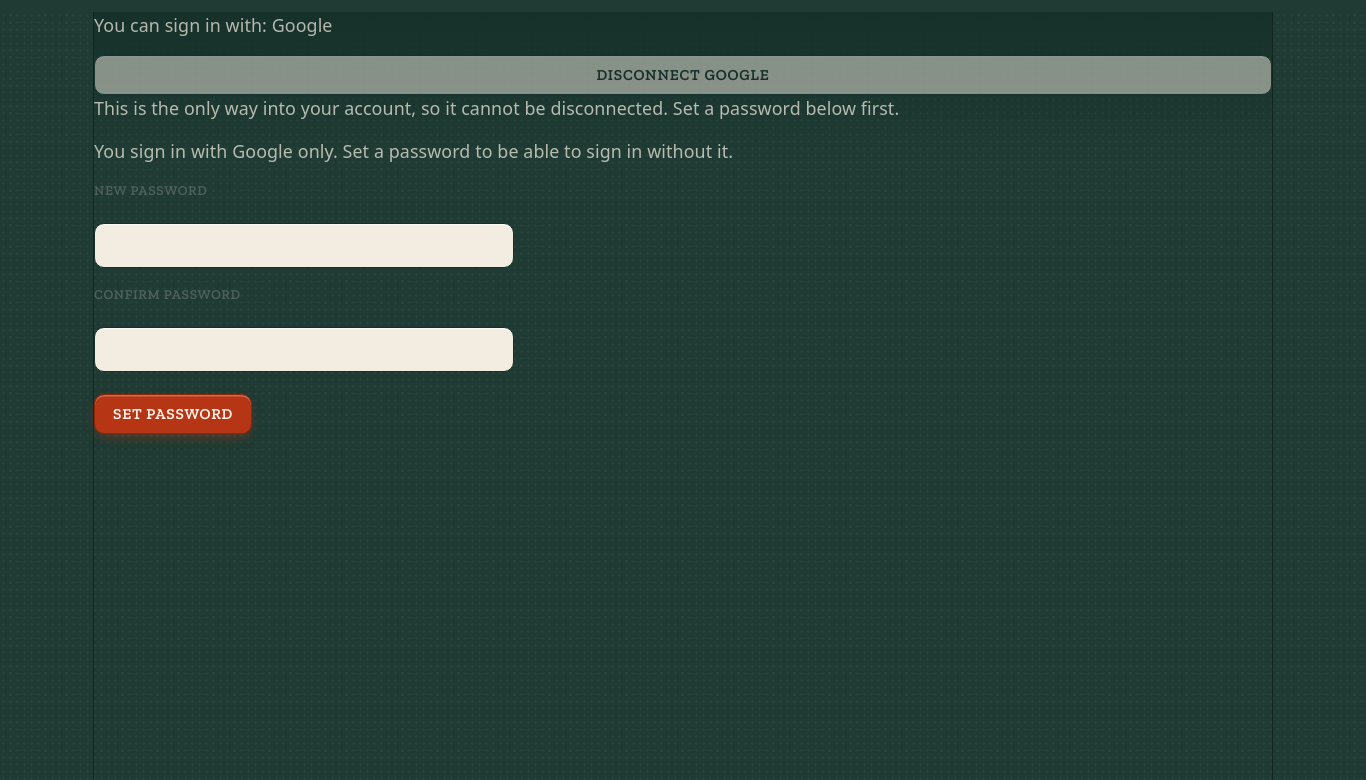
Scenario: will not set a first password when the two do not match
Step 1. Type "aaaaaaaa" into the password field labelled "New password" → (304, 246), box [94,223,514,268]
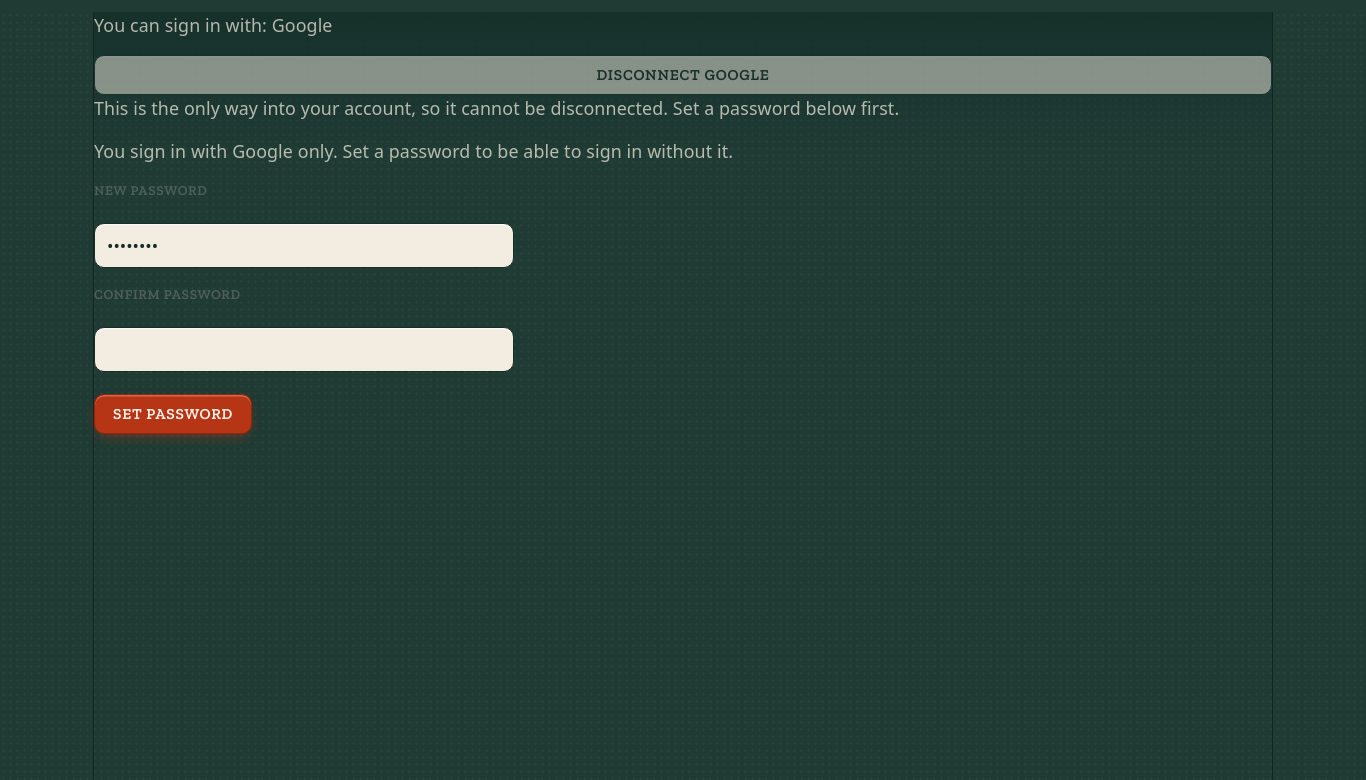
Step 2. Type "bbbbbbbb" into the password field labelled "Confirm password" → (304, 350), box [94,327,514,372]
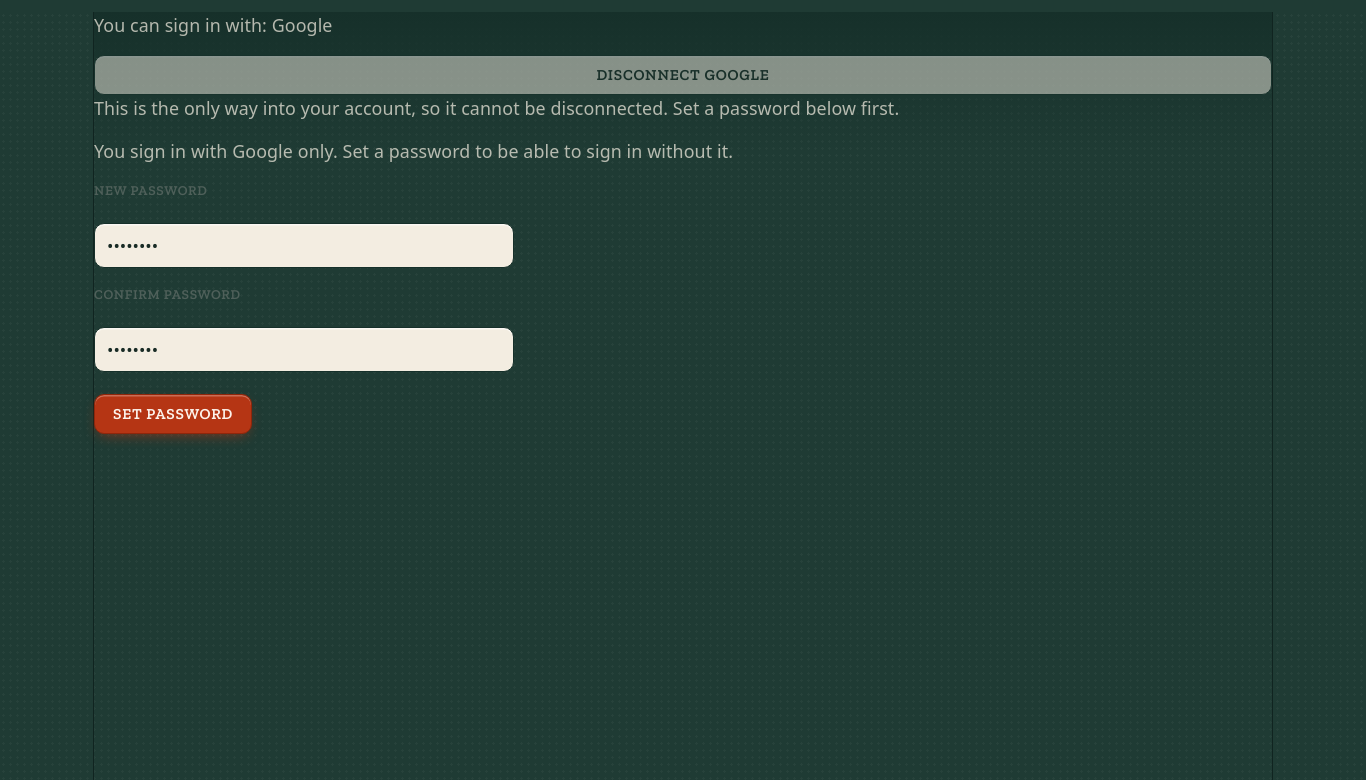
Step 3. Click the button "Set password" → (173, 414), box [94,394,252,434]
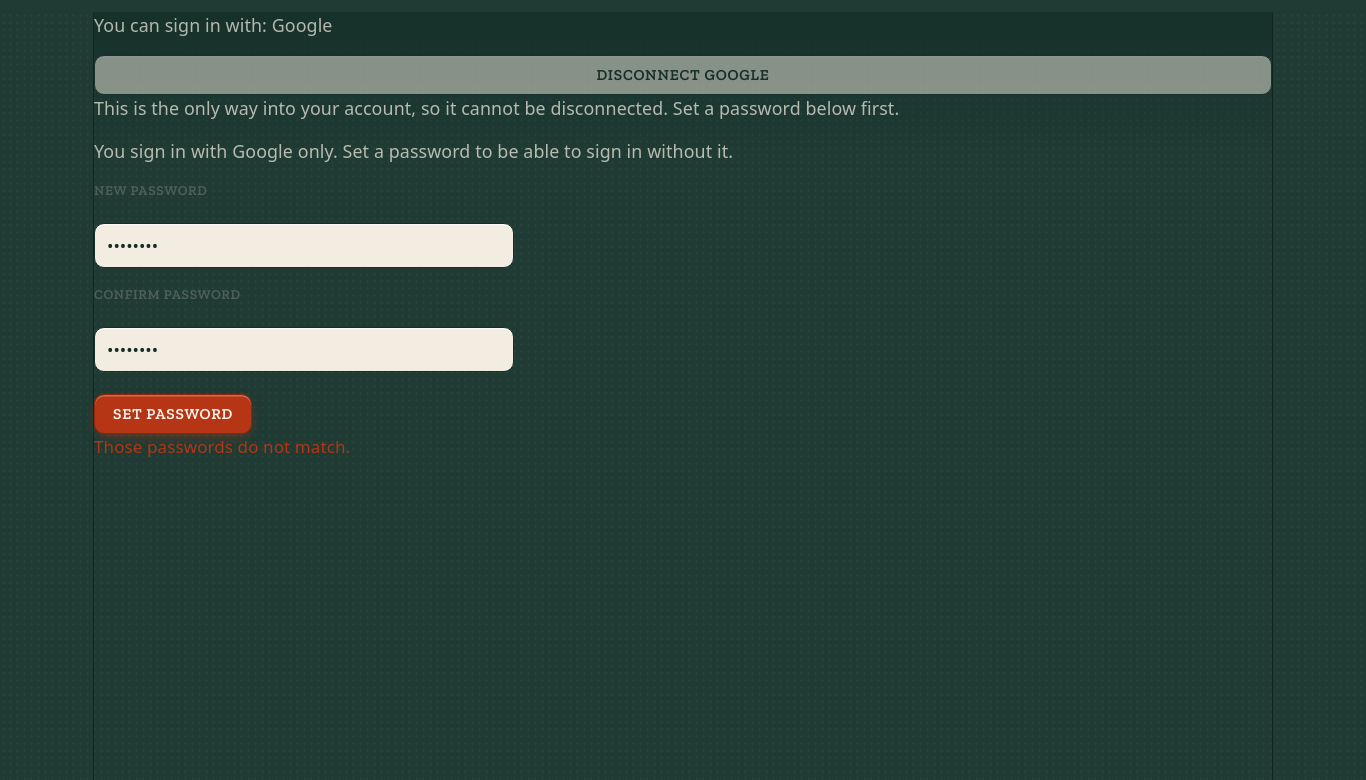
Check: the text "Those passwords do not match." is shown, box [94,435,350,458]
